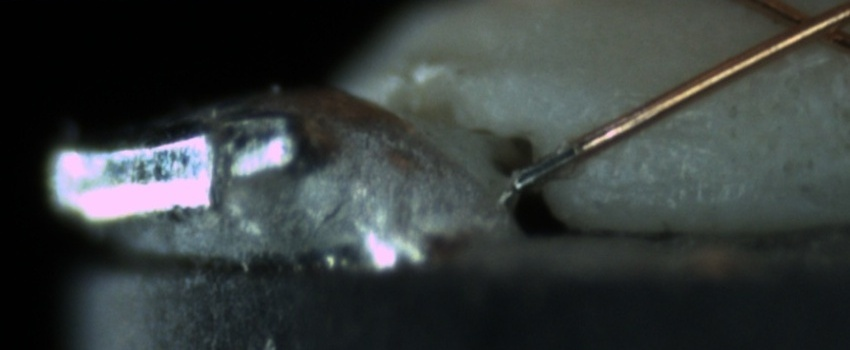CL: (759, 0, 849, 55)
DL: (626, 101, 717, 157)
TS: (514, 142, 582, 191)
